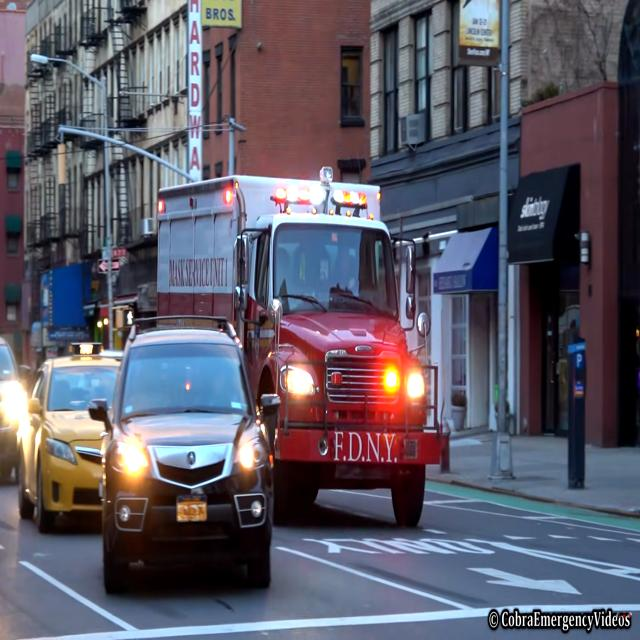emergency-vehicles: (140, 166, 461, 550)
